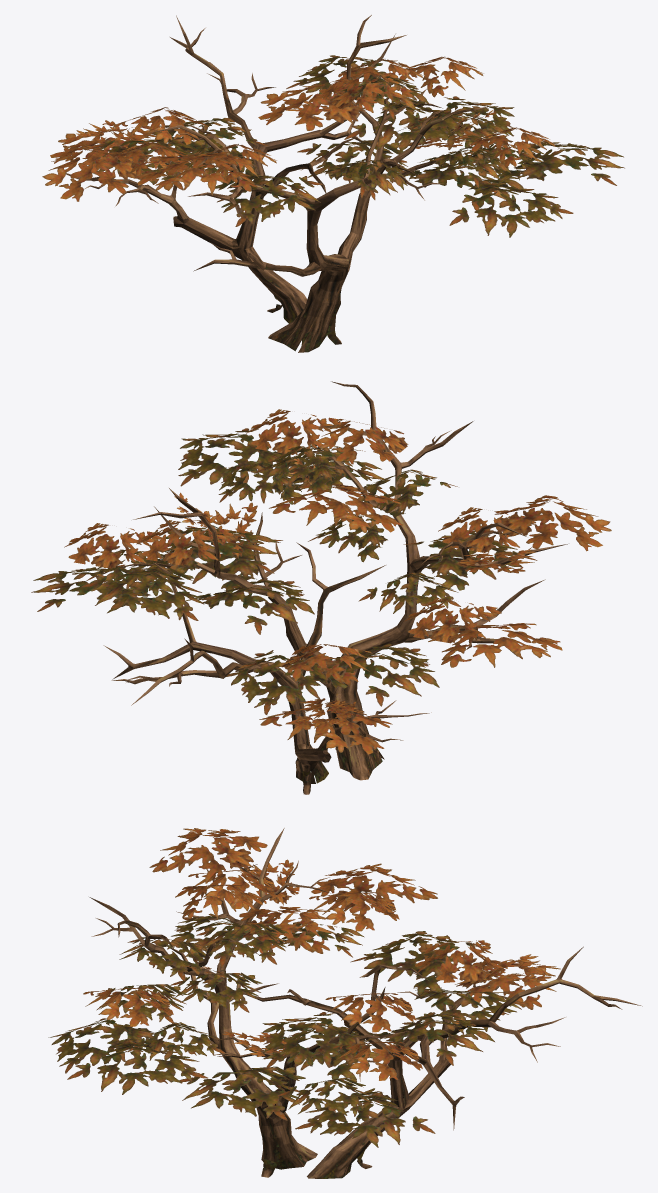
File: 7003_Item_shu_6.FBX
3 views of the same model, one above another, from view 1: azimuth 30°, elevation 25°; view 2: azimuth 150°, elevation 25°; view 3: azimuth 270°, elevation 25° (orthographic). The views are drawn at different scales.
Parts seen in each view (by area): view 1: 7003_Item_shu_6; view 2: 7003_Item_shu_6; view 3: 7003_Item_shu_6.
Boxes of the visible parts, <box> form: 7003_Item_shu_6: <box>42,15,624,352</box>; 7003_Item_shu_6: <box>31,381,611,794</box>; 7003_Item_shu_6: <box>48,828,642,1178</box>.
Size of the model in its own units: 622 by 624 by 322.
